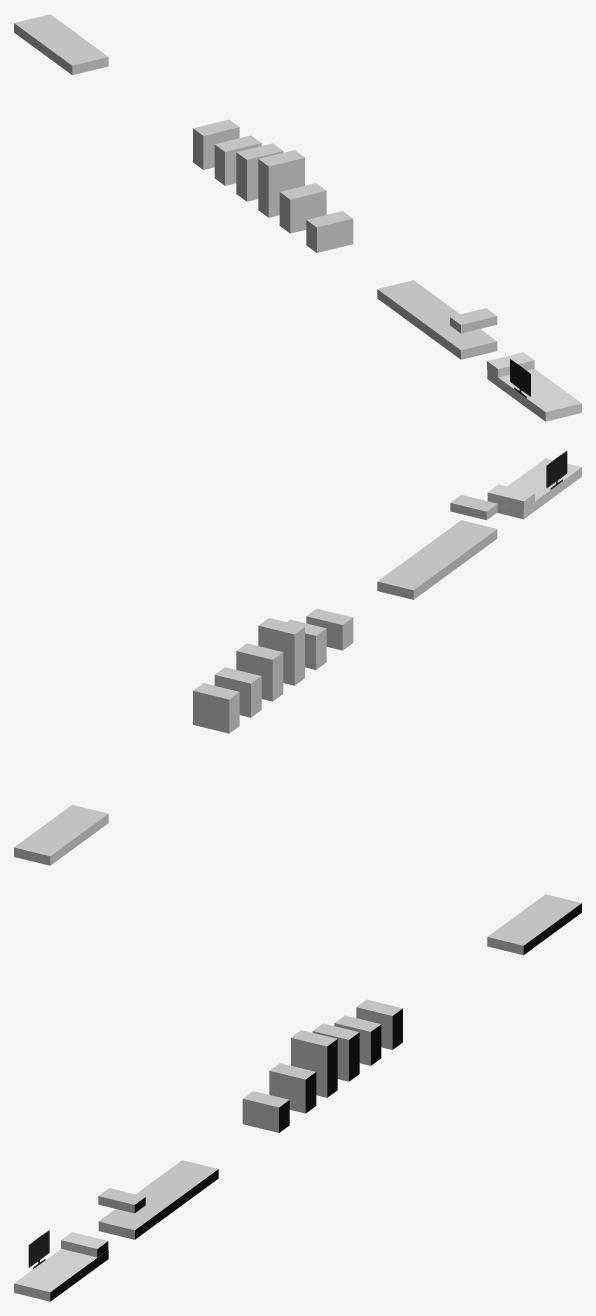
The model's file is Map_10.glb.
3 renders of one model, top to bottom at view 1: azimuth 30°, elevation 25°; view 2: azimuth 150°, elevation 25°; view 3: azimuth 330°, elevation 25°, orthographic.
Visible parts, largest first — view 1: Plateform.001, Plateform.002, Plateform, Cube.002, Cube.001, Cube, Cube.005, Cube.003, Cube.004, Cube Ref double jump+hauteur.003, Cube Ref double jump+hauteur.001, Plane; view 2: Plateform.001, Plateform.002, Cube.002, Cube.005, Plateform, Cube.003, Cube.004, Cube, Cube.001, Cube Ref double jump+hauteur.003, Cube Ref double jump+hauteur.001, Plane; view 3: Plateform.001, Plateform.002, Plateform, Cube.002, Cube.001, Cube, Cube.005, Cube.003, Cube.004, Cube Ref double jump+hauteur.001, Cube Ref double jump+hauteur.003, Plane.
Part boxes in pixels (x1,y1,x2,y2): Plateform.001: [377, 280, 497, 359]; Plateform.002: [14, 14, 108, 75]; Plateform: [487, 369, 581, 421]; Cube.002: [258, 150, 304, 217]; Cube.001: [279, 183, 326, 233]; Cube: [306, 211, 353, 252]; Cube.005: [193, 119, 239, 169]; Cube.003: [236, 143, 283, 201]; Cube.004: [214, 135, 261, 185]; Cube Ref double jump+hauteur.003: [450, 308, 497, 333]; Cube Ref double jump+hauteur.001: [487, 352, 534, 377]; Plane: [510, 359, 530, 397]; Plateform.001: [377, 520, 497, 599]; Plateform.002: [14, 805, 108, 865]; Cube.002: [258, 618, 304, 685]; Cube.005: [193, 683, 239, 733]; Plateform: [487, 458, 581, 519]; Cube.003: [236, 643, 283, 701]; Cube.004: [214, 667, 261, 717]; Cube: [306, 608, 353, 650]; Cube.001: [287, 619, 326, 669]; Cube Ref double jump+hauteur.003: [450, 495, 497, 520]; Cube Ref double jump+hauteur.001: [487, 484, 534, 509]; Plane: [546, 451, 567, 489]; Plateform.001: [98, 1160, 218, 1239]; Plateform.002: [487, 894, 581, 955]; Plateform: [14, 1249, 108, 1301]; Cube.002: [291, 1030, 337, 1097]; Cube.001: [269, 1063, 316, 1113]; Cube: [242, 1091, 289, 1132]; Cube.005: [356, 999, 402, 1049]; Cube.003: [312, 1023, 359, 1081]; Cube.004: [334, 1015, 381, 1065]; Cube Ref double jump+hauteur.001: [61, 1232, 108, 1257]; Cube Ref double jump+hauteur.003: [98, 1188, 145, 1213]; Plane: [28, 1230, 49, 1268].
Bounding box in the file's own units: 2.01 × 2.76 × 50.67.
5 materials, 2 textured.
